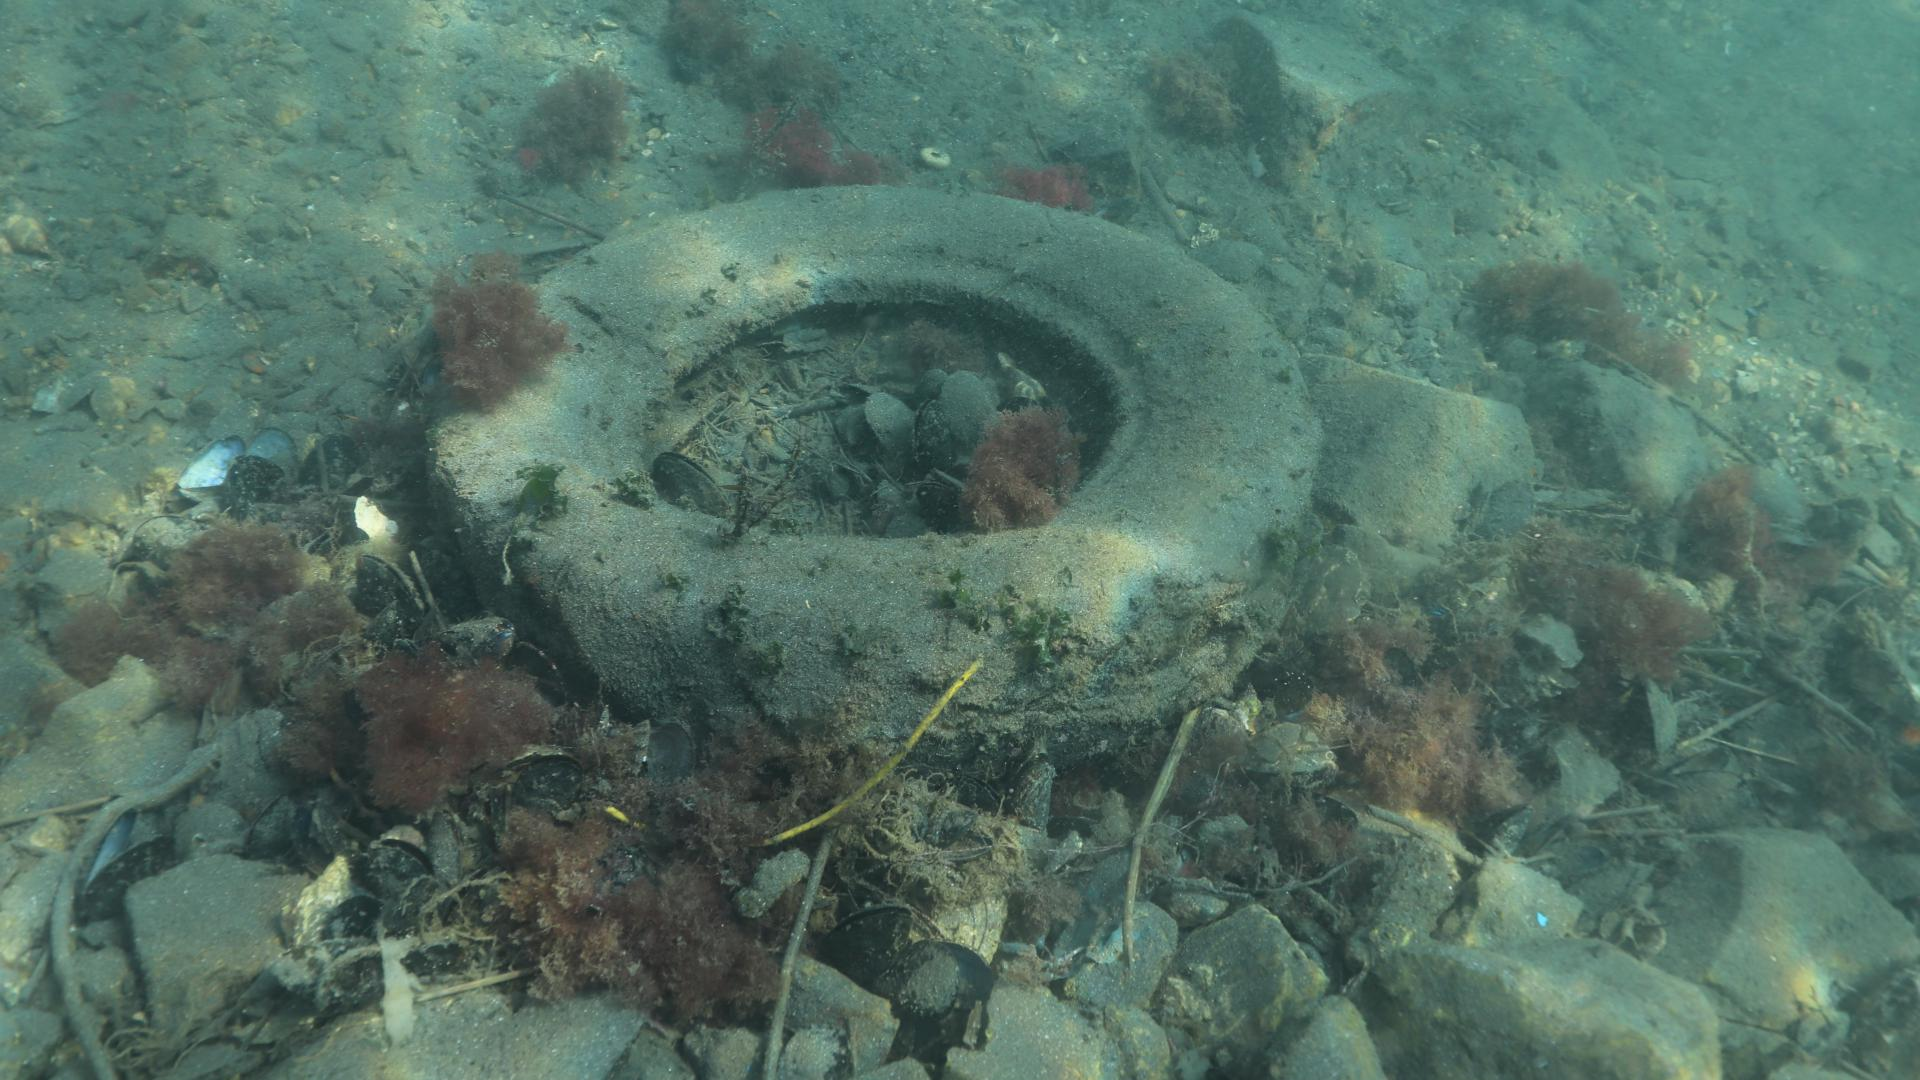tire: (434, 187, 1323, 758)
